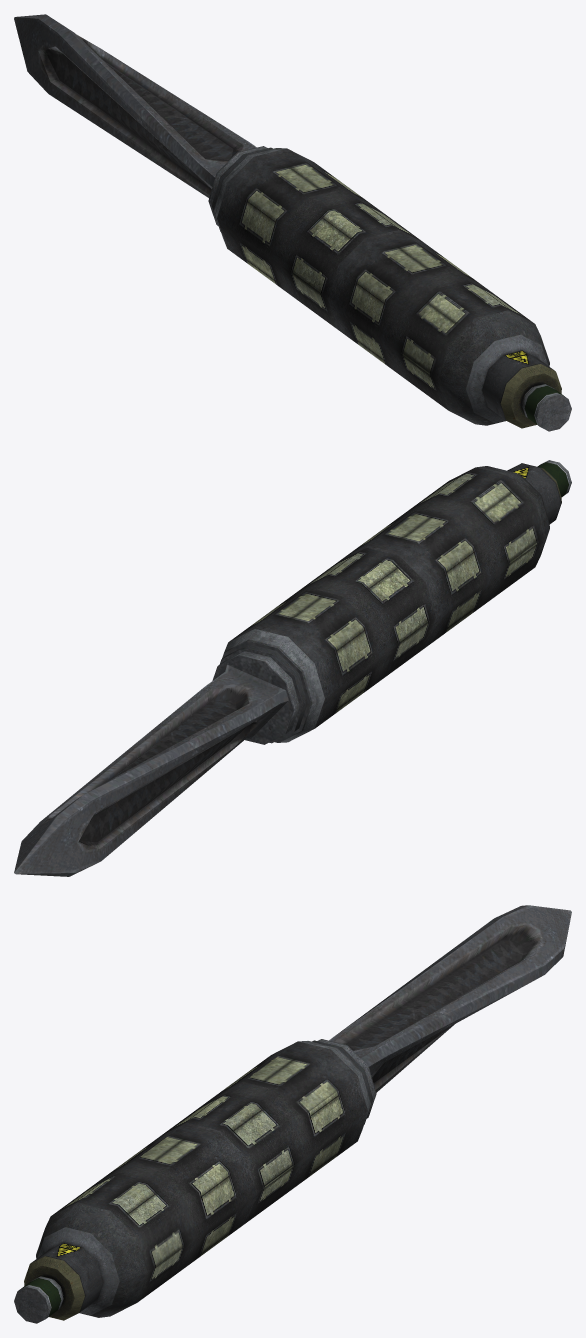
The model's file is t6_wpn_taser_mine_world_LOD1.obj.
3 views of the same model, one above another, from view 1: azimuth 30°, elevation 25°; view 2: azimuth 150°, elevation 25°; view 3: azimuth 330°, elevation 25° (orthographic).
Visible parts, largest first — view 1: mtl_t6_wpn_taser_mine; view 2: mtl_t6_wpn_taser_mine; view 3: mtl_t6_wpn_taser_mine.
Part boxes in pixels (x1,y1,x2,y2): mtl_t6_wpn_taser_mine: (14, 14, 571, 431); mtl_t6_wpn_taser_mine: (14, 460, 571, 876); mtl_t6_wpn_taser_mine: (14, 905, 571, 1323).
Size of the model in its own units: 3.63 by 3.42 by 31.65.
